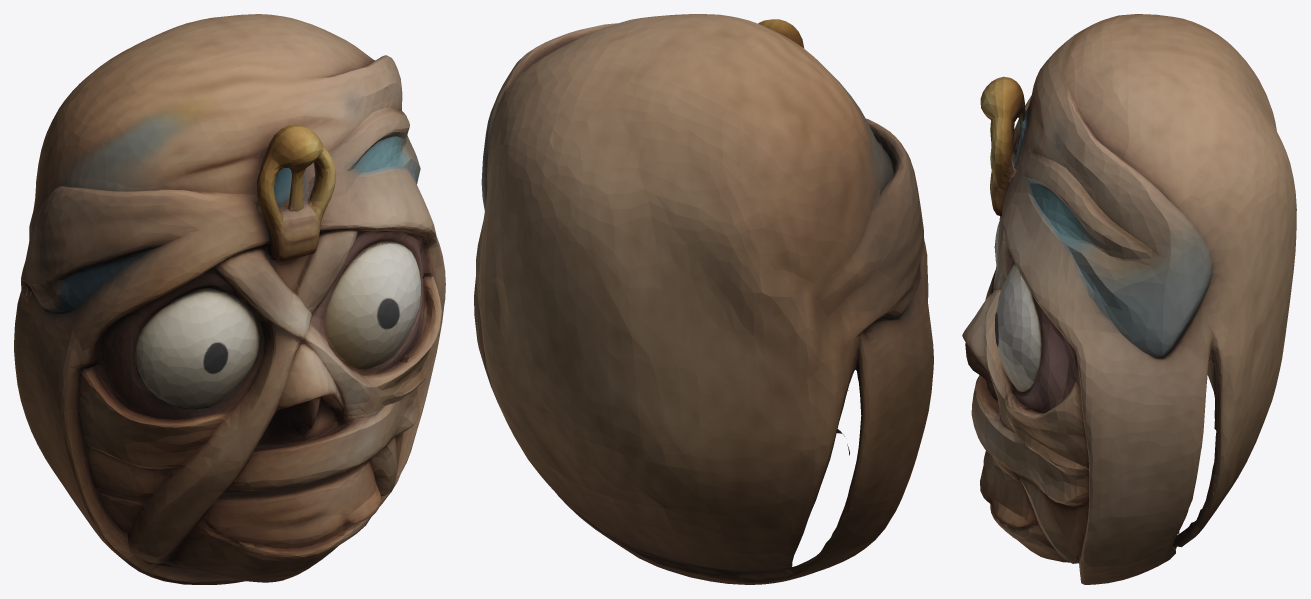
The model's file is mumia-head.glb.
The picture shows the model from 3 angles, left to right: view 1: azimuth 30°, elevation 25°; view 2: azimuth 150°, elevation 25°; view 3: azimuth 270°, elevation 25°; orthographic projection. The views are drawn at different scales.
Visible parts, largest first — view 1: world; view 2: world; view 3: world.
Boxes of the visible parts, box(x1,y1,x2,y2) form: world: box(14, 14, 445, 584); world: box(474, 14, 933, 584); world: box(962, 14, 1296, 584).
Size of the model in its own units: 0.7779 by 0.9997 by 0.5825.
Materials: 1 (1 with a texture image).
